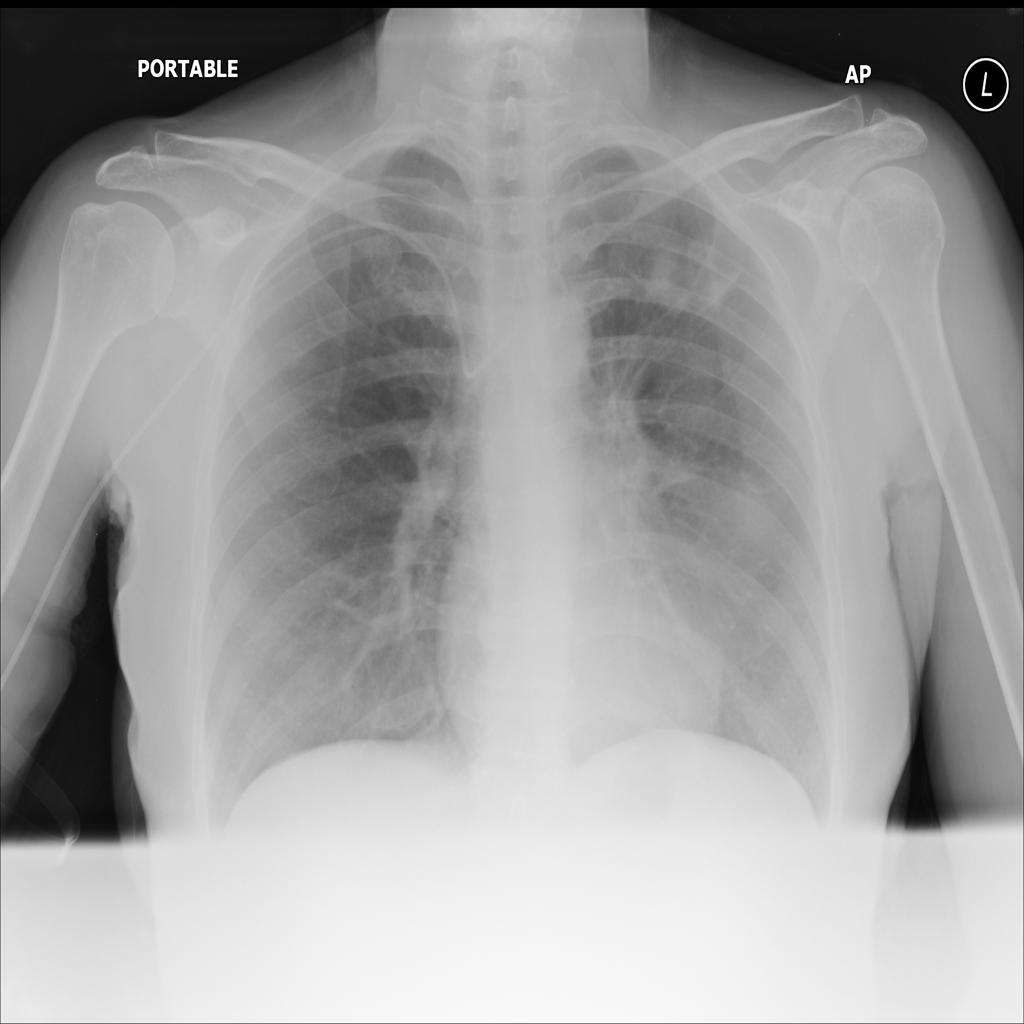nodule: (641, 237, 741, 320)
